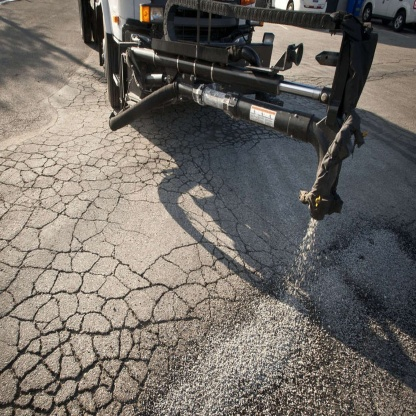pothole: (2, 339, 107, 416)
